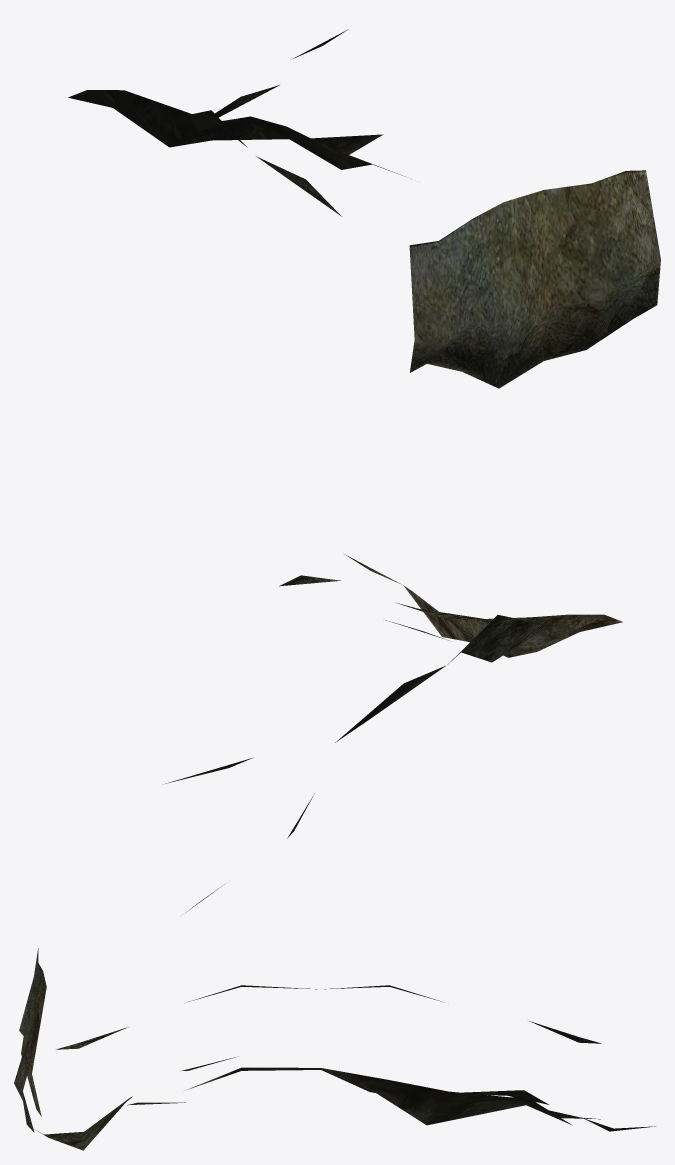
3 views of the same model, one above another, from view 1: azimuth 30°, elevation 25°; view 2: azimuth 150°, elevation 25°; view 3: azimuth 270°, elevation 25° (orthographic). The views are drawn at different scales.
Visible parts, largest first — view 1: model_Object19; view 2: model_Object19; view 3: model_Object19.
Part boxes in pixels (<box>): model_Object19: <box>68,29,660,388</box>; model_Object19: <box>165,554,622,911</box>; model_Object19: <box>14,948,655,1150</box>.
Size of the model in its own units: 4.82 by 3.38 by 13.2.
2 materials, 2 textured.
